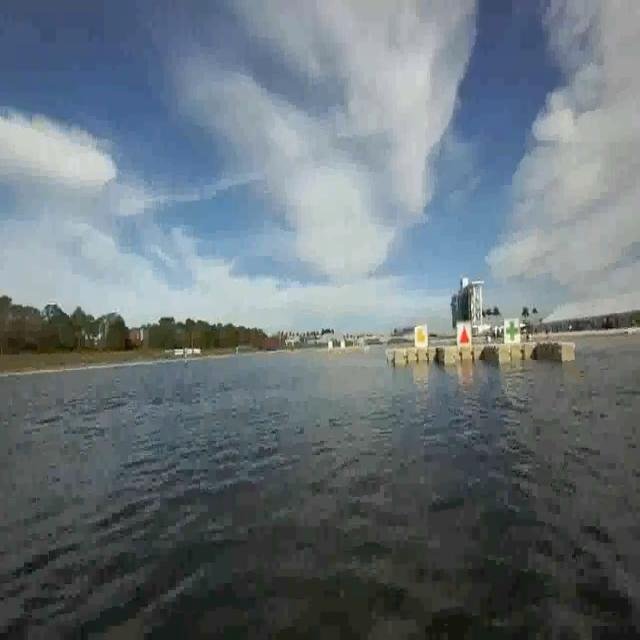blue-cross: (504, 320, 521, 345)
red-dot: (458, 320, 473, 352)
yellow-duck: (416, 327, 428, 351)
